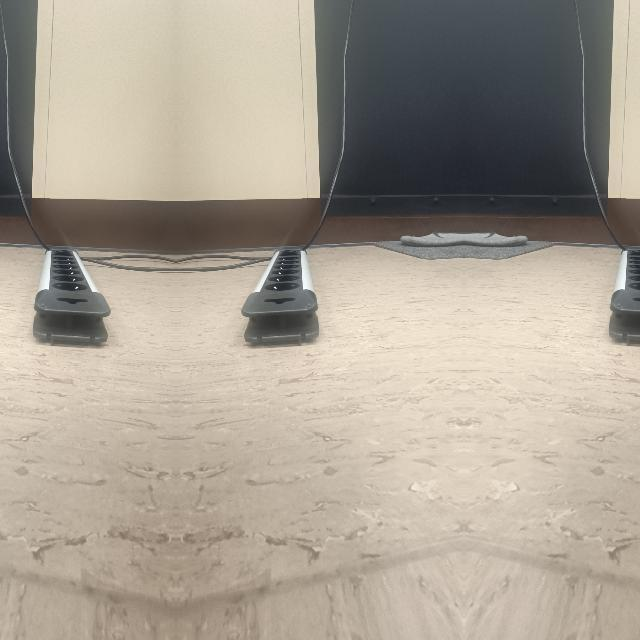obstacle: (240, 247, 324, 347), (26, 247, 110, 347), (603, 247, 640, 347)
